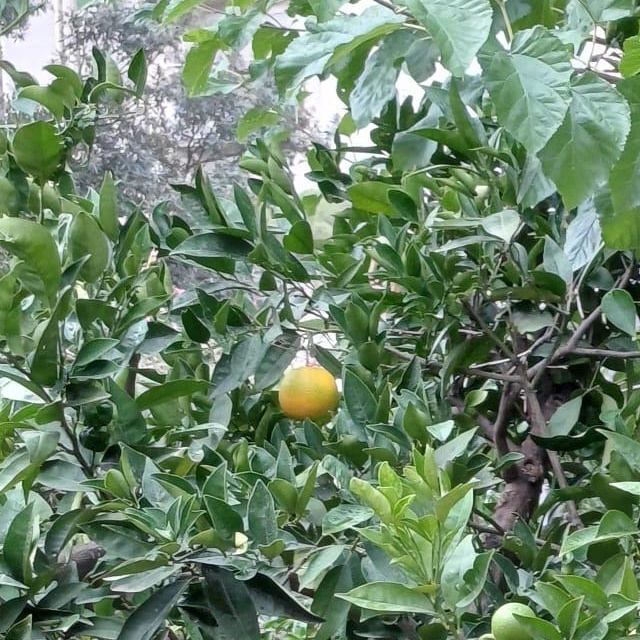orange: (275, 363, 343, 423), (490, 601, 538, 640), (619, 628, 640, 640)
